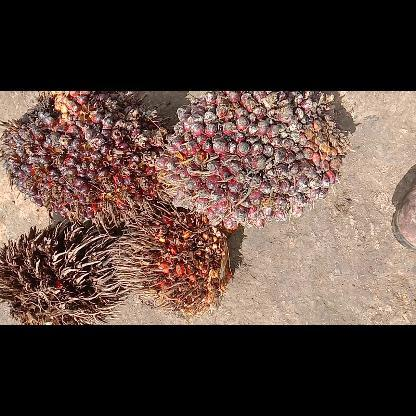Janjang kosong: (0, 217, 133, 324)
Kurang masak: (154, 90, 354, 232)
TBS masak: (0, 91, 172, 229)
Terlalu masak: (110, 203, 236, 317)
